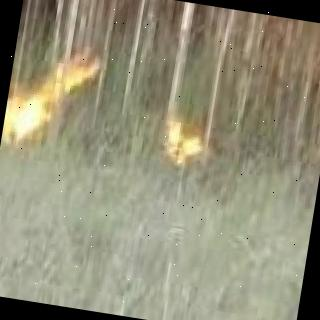fire: (1, 55, 108, 157), (1, 92, 64, 146), (161, 120, 206, 166)
